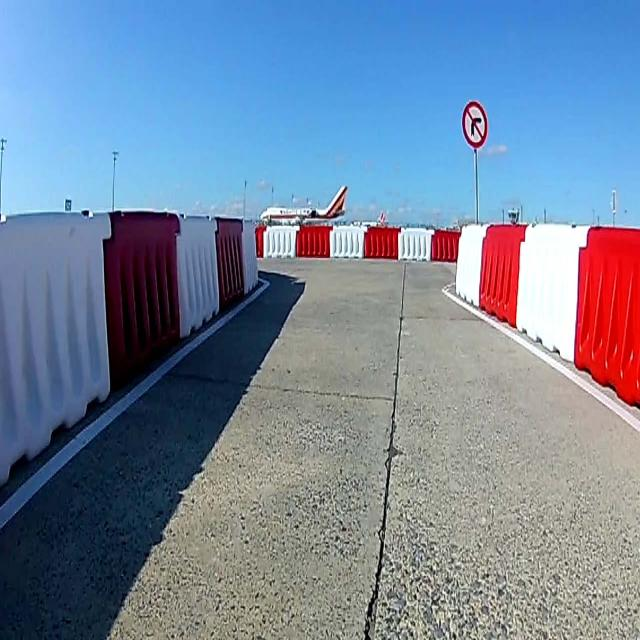sagadonulmez: (462, 98, 488, 147)
